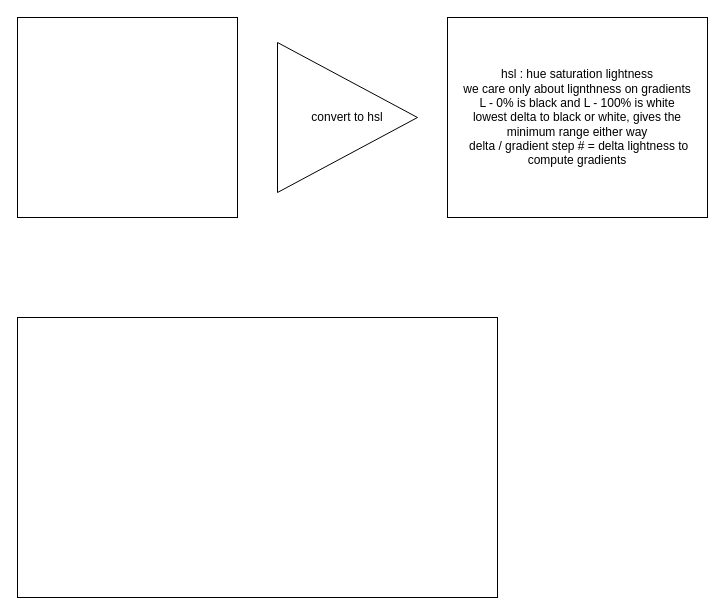
This 725x615 diagram has some shape labels left out. The centre of each missing label's shape, as x and y in pixels:
Color: rgb, hex, hsl, ect: the point at 127,117
pallet is 7, computed gradients 2 35: the point at 257,457
